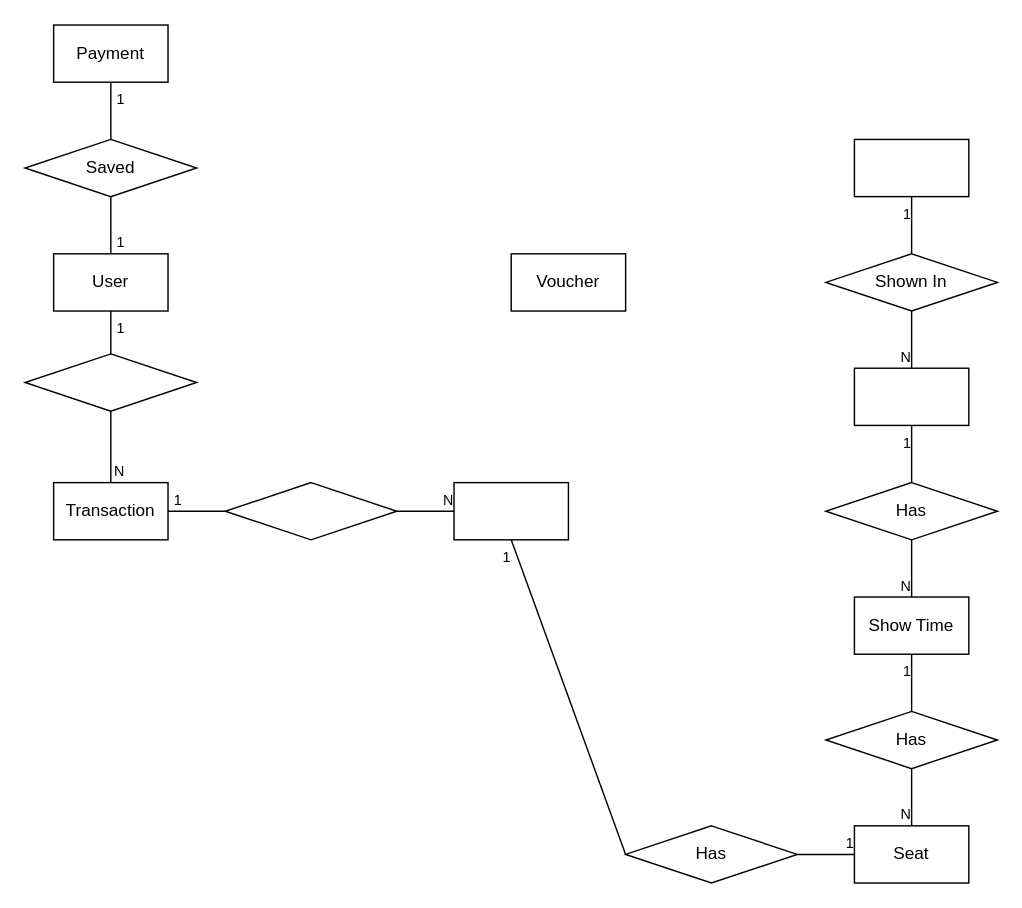
Image size: 1022x908. Some labels were removed from this diagram. The box of each missing label's shape, as (x1, y1, x2, y2) in pixels:
Contains: (224, 481, 397, 540)
Make: (24, 352, 197, 411)
Movie: (853, 138, 969, 197)
Theatre: (853, 367, 969, 425)
Ticket: (453, 481, 568, 540)
